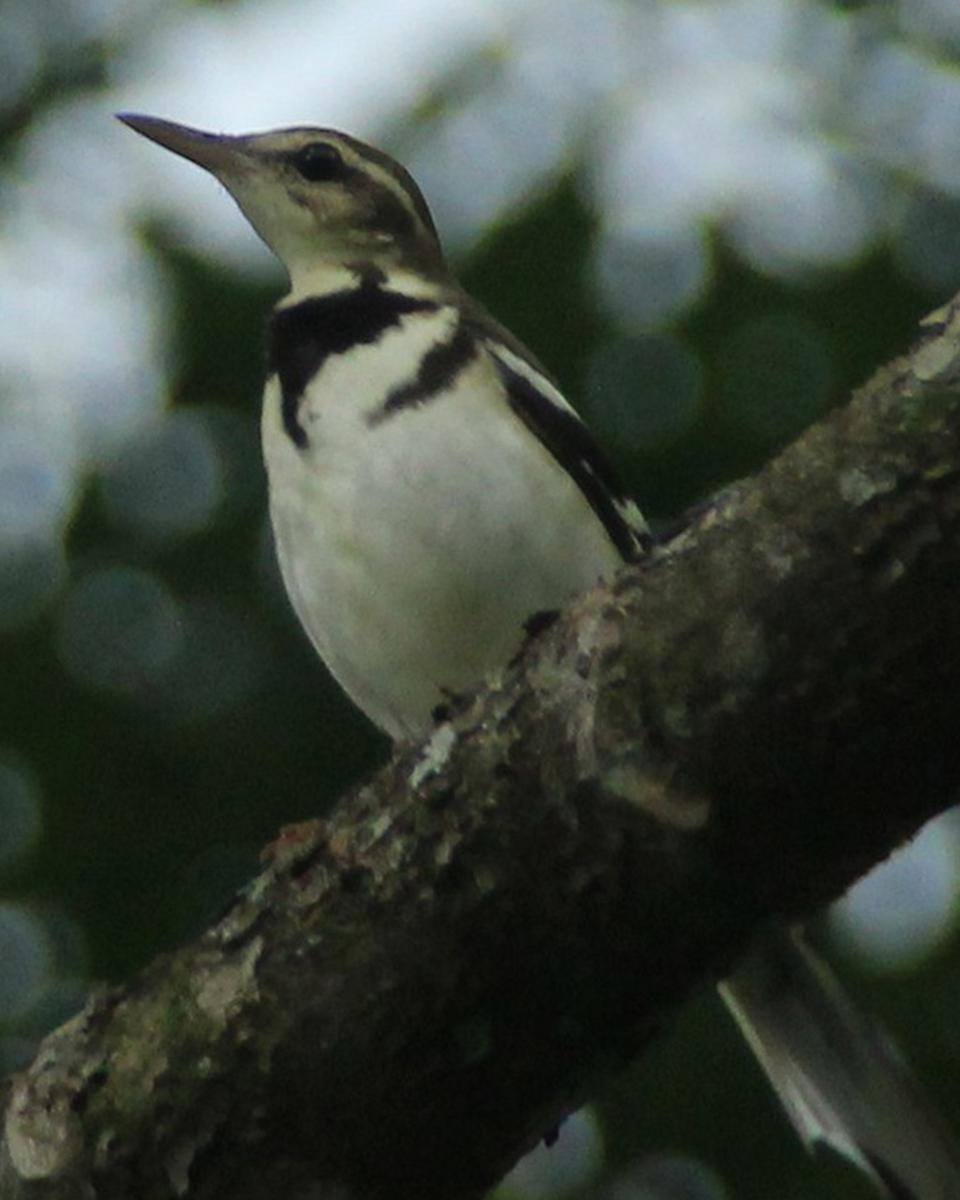wagtail: (171, 82, 679, 695)
